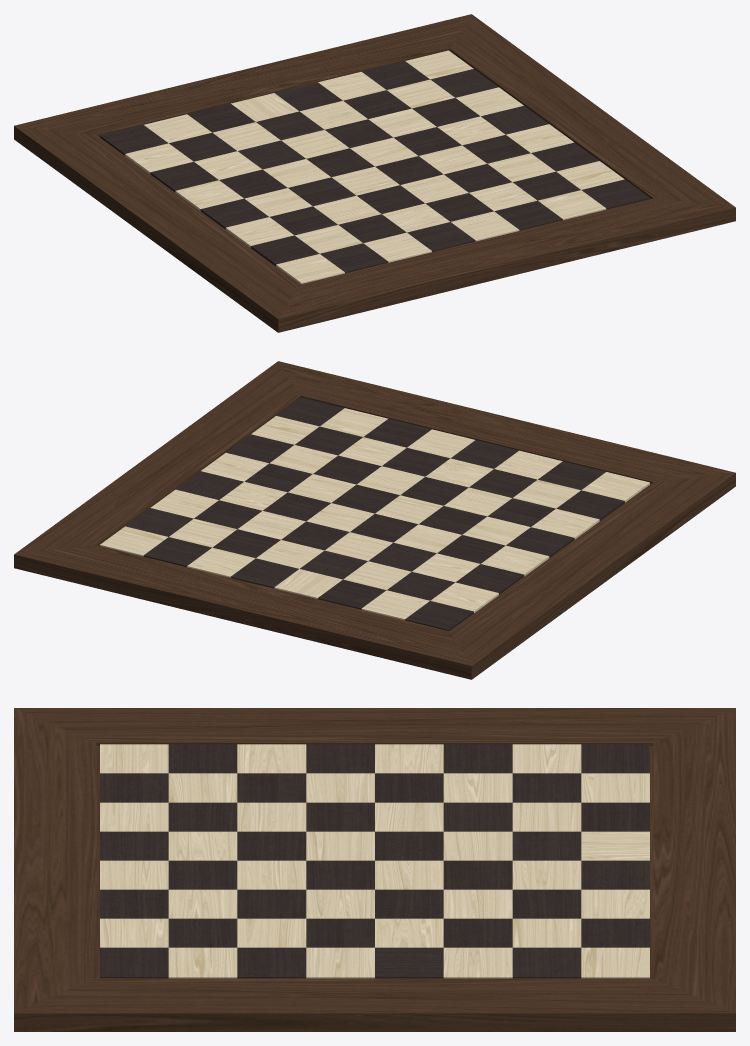
The model's file is Chess_Board_V1.FBX.
3 renders of one model, top to bottom at view 1: azimuth 30°, elevation 25°; view 2: azimuth 150°, elevation 25°; view 3: azimuth 270°, elevation 25°, orthographic. The views are drawn at different scales.
Visible parts, largest first — view 1: Chess_Board_Copy; view 2: Chess_Board_Copy; view 3: Chess_Board_Copy.
Boxes of the visible parts, left/top/right/bottom form: Chess_Board_Copy: left=14, top=14, right=735, bottom=332; Chess_Board_Copy: left=14, top=361, right=735, bottom=679; Chess_Board_Copy: left=14, top=708, right=735, bottom=1031.
Size of the model in its own units: 1050 by 30 by 1050.
Materials: 1 (1 with a texture image).
